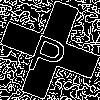P: (25, 25, 72, 80)
